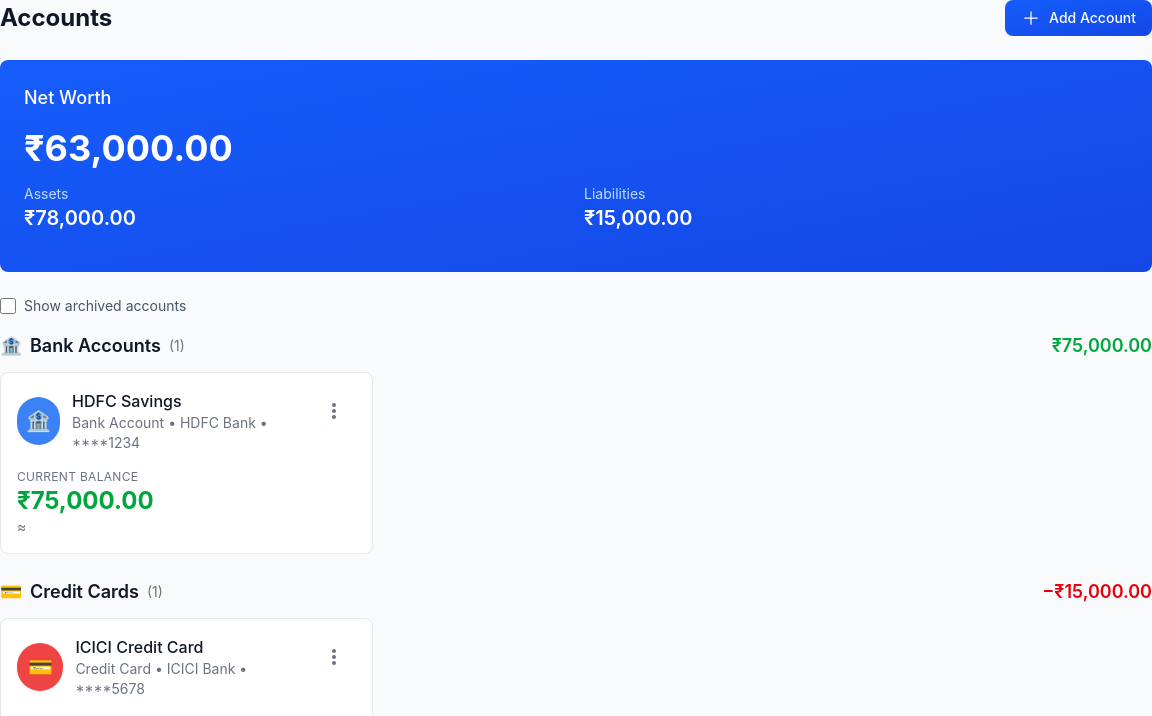
Test: AccountsPage - Account Card Menu › should open delete confirmation when clicking Delete
Expected: the heading "HDFC Savings" is shown, [72,389,182,413]
Click the button without text next to "• ****1234" at (334, 411), box [312,389,356,433]
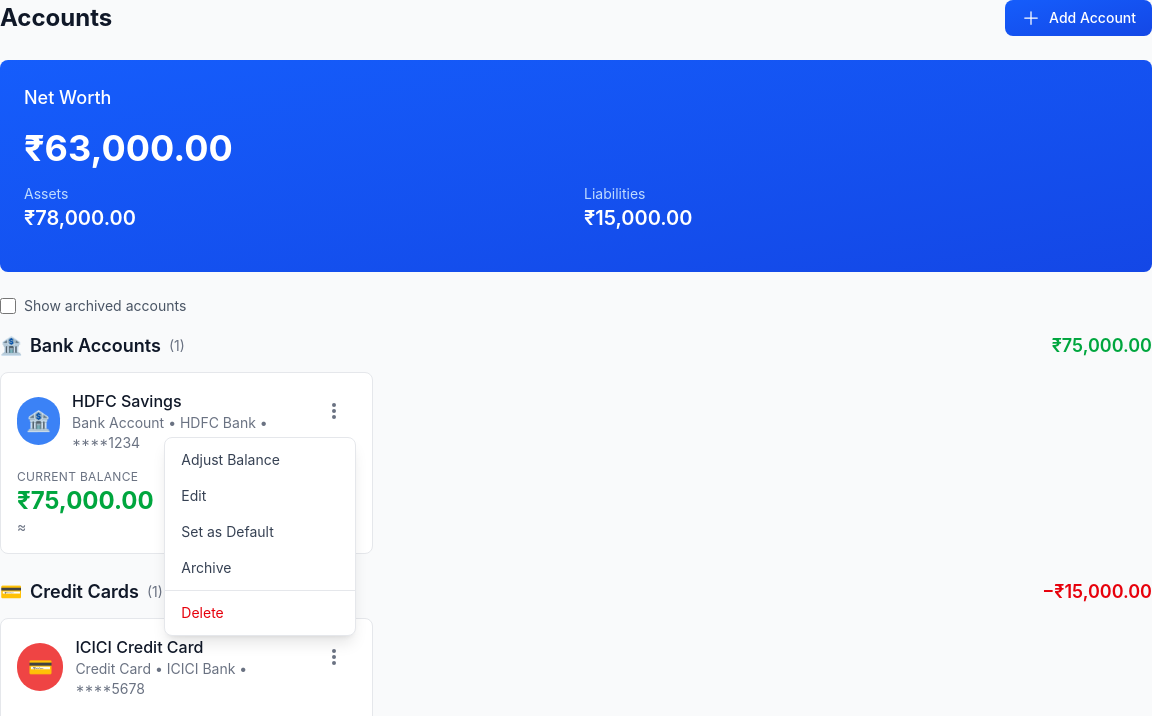
Click the button "Delete" at (260, 613), box [165,595,355,631]
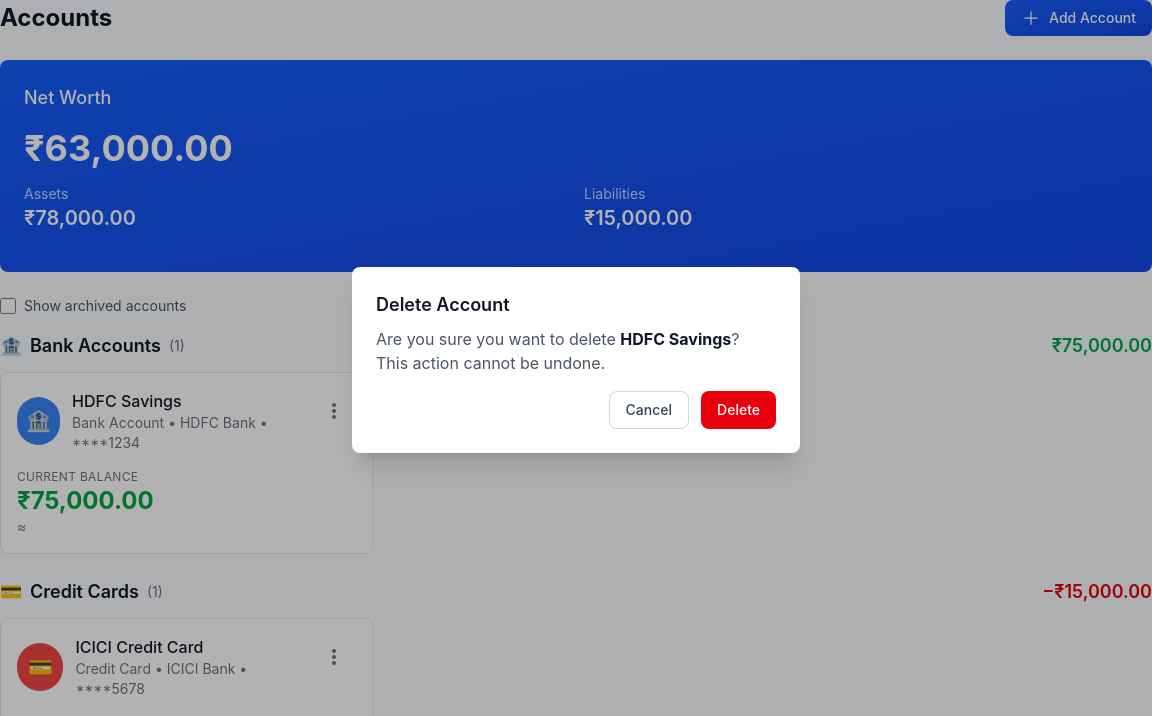
Now the heading "Delete Account" is shown, box [376,294,510,315]
Now the text "Are you sure you want to delete" is shown, box [376,329,620,349]
